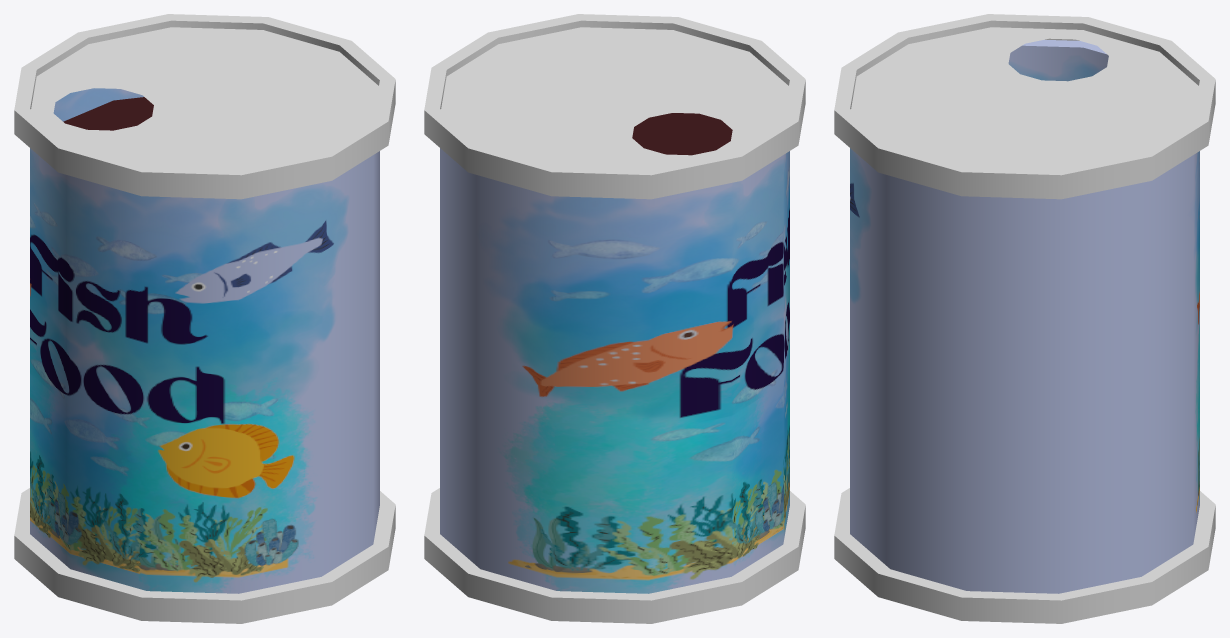
Rendered from fishfood.fbx.
3 views of the same model, side by side, from view 1: azimuth 30°, elevation 25°; view 2: azimuth 150°, elevation 25°; view 3: azimuth 270°, elevation 25° (orthographic).
Visible parts, largest first — view 1: fish food, food filler; view 2: fish food, food filler; view 3: fish food.
Part boxes in pixels (box(x1,y1,x2,y2)): fish food: box(14, 14, 395, 623); food filler: box(63, 97, 153, 130); fish food: box(424, 14, 805, 623); food filler: box(632, 113, 732, 155); fish food: box(834, 14, 1215, 623).
Bounding box in the file's own units: 42.53 × 55.21 × 42.53.
